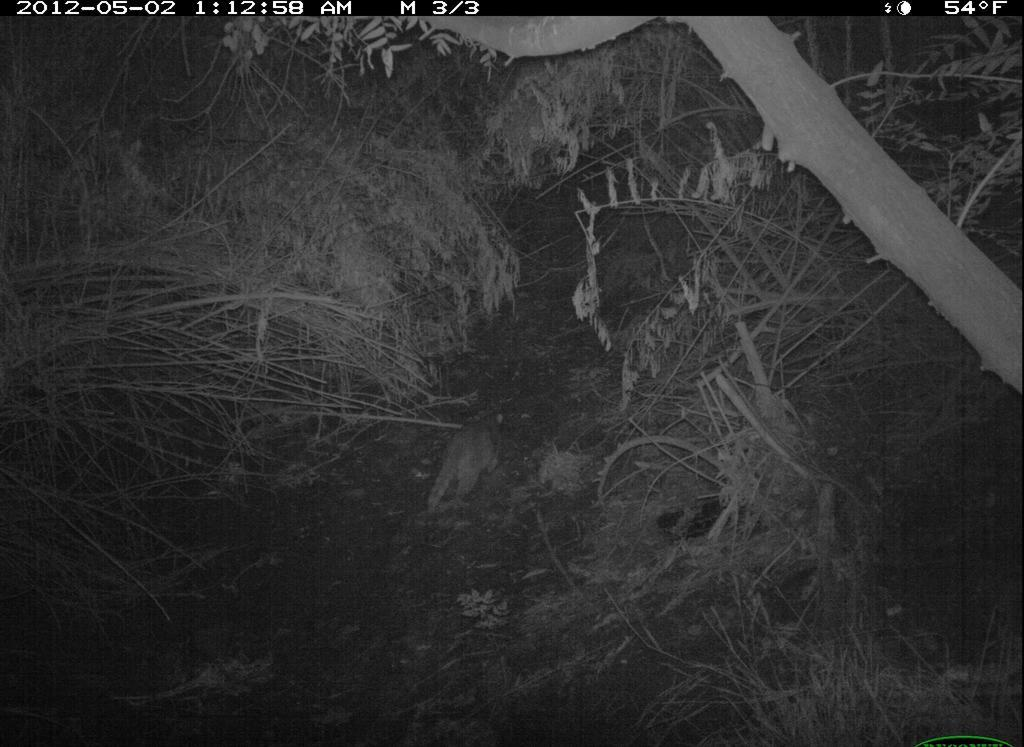raccoon: (421, 405, 513, 523)
